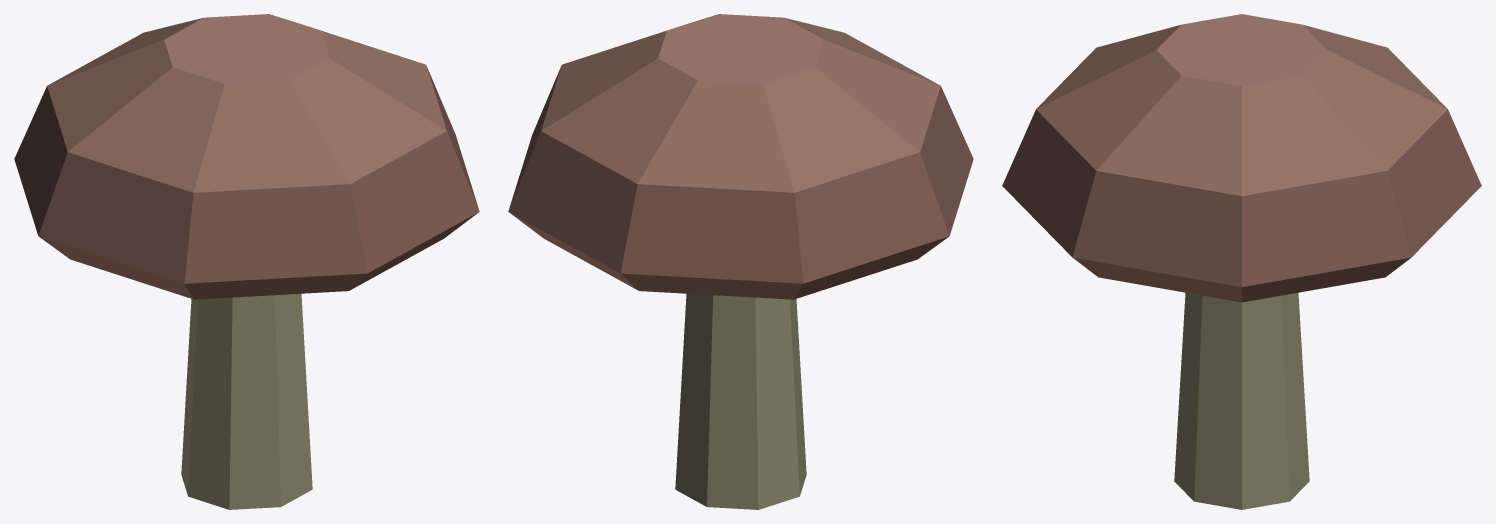
Rendered from NoCollisionLess_SF_Env_Mushroom_01.fbx.
3 views of the same model, side by side, from view 1: azimuth 30°, elevation 25°; view 2: azimuth 150°, elevation 25°; view 3: azimuth 270°, elevation 25° (orthographic).
Parts seen in each view (by area): view 1: SF_Env_Mushroom_01; view 2: SF_Env_Mushroom_01; view 3: SF_Env_Mushroom_01.
Part boxes in pixels (x1=…): SF_Env_Mushroom_01: x1=14, y1=14, x2=479, y2=509; SF_Env_Mushroom_01: x1=508, y1=14, x2=973, y2=509; SF_Env_Mushroom_01: x1=1002, y1=14, x2=1481, y2=509.
Size of the model in its own units: 169 by 168 by 169.
